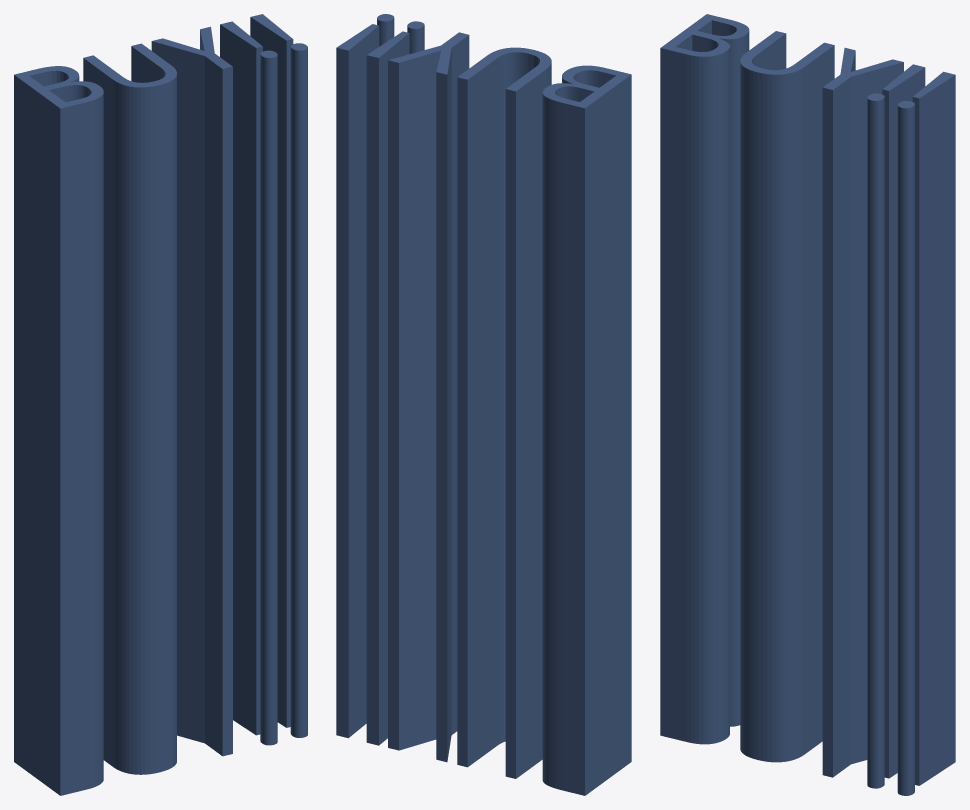
Rendered from buy.glb.
3 views of the same model, side by side, from view 1: azimuth 30°, elevation 25°; view 2: azimuth 150°, elevation 25°; view 3: azimuth 330°, elevation 25° (orthographic).
Parts seen in each view (by area): view 1: Mesh_Mesh_head_geo.001_lambert2SG.001; view 2: Mesh_Mesh_head_geo.001_lambert2SG.001; view 3: Mesh_Mesh_head_geo.001_lambert2SG.001.
Boxes of the visible parts, left/top/right/bottom form: Mesh_Mesh_head_geo.001_lambert2SG.001: left=14, top=14, right=307, bottom=795; Mesh_Mesh_head_geo.001_lambert2SG.001: left=336, top=14, right=631, bottom=795; Mesh_Mesh_head_geo.001_lambert2SG.001: left=660, top=14, right=955, bottom=795.
Size of the model in its own units: 61.52 by 162 by 20.26.
